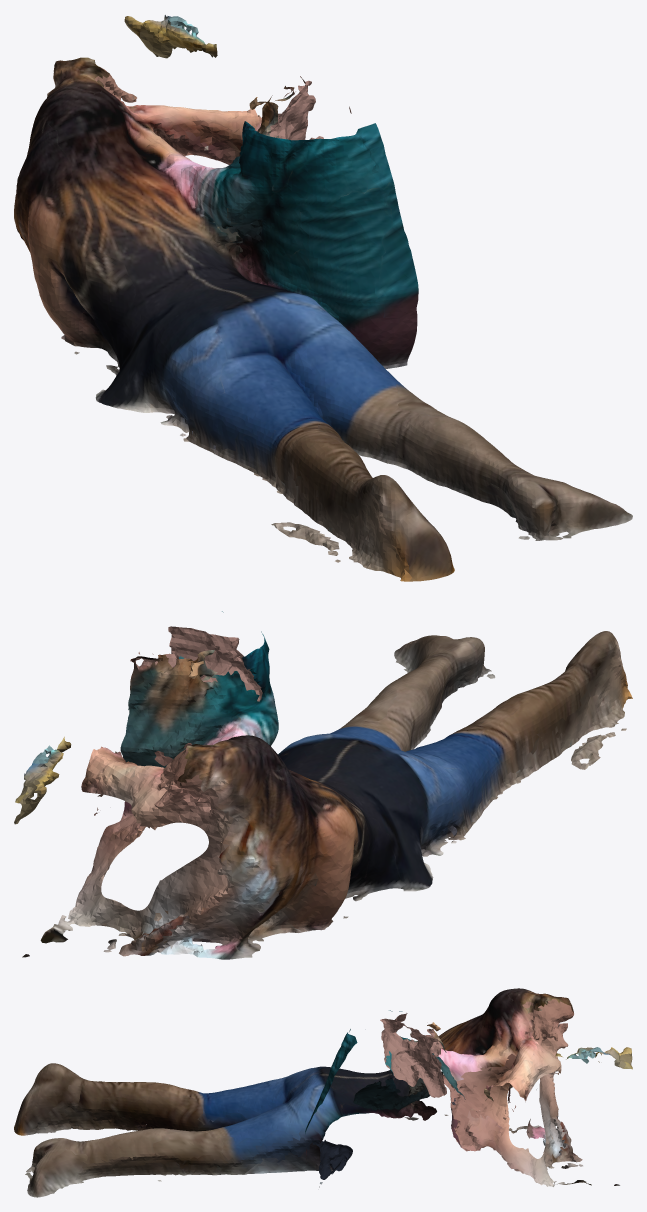
The picture shows the model from 3 angles, top to bottom: view 1: azimuth 30°, elevation 25°; view 2: azimuth 150°, elevation 25°; view 3: azimuth 270°, elevation 25°; orthographic projection. The views are drawn at different scales.
Bounding box in the file's own units: 0.6486 × 0.4818 × 1.81.
Materials: 1 (1 with a texture image).
